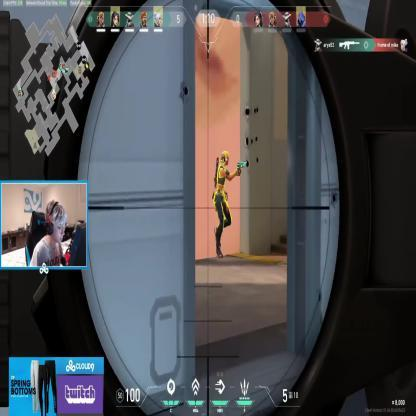enemy: (211, 148, 240, 258)
enemy_head: (220, 151, 229, 168)
